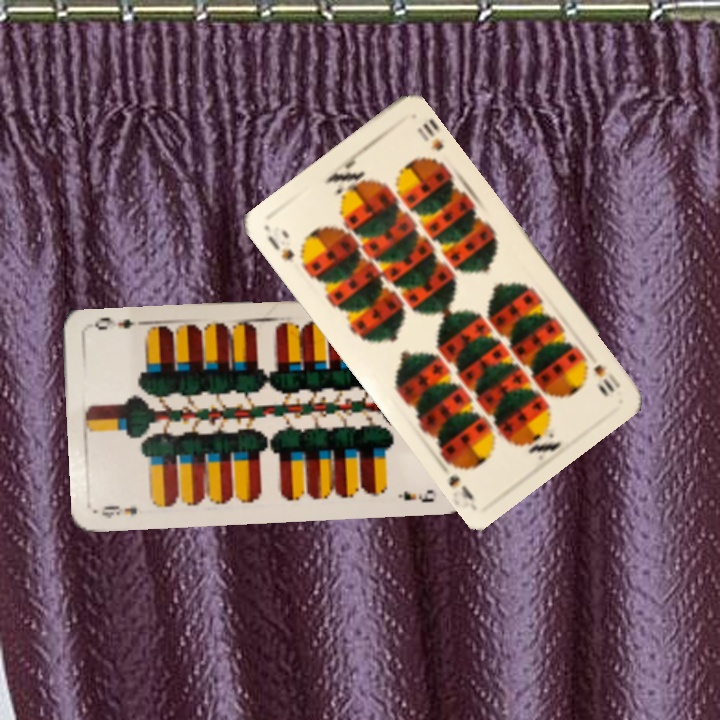E9: (97, 501, 140, 521)
S10: (589, 360, 623, 395), (263, 231, 297, 263)
